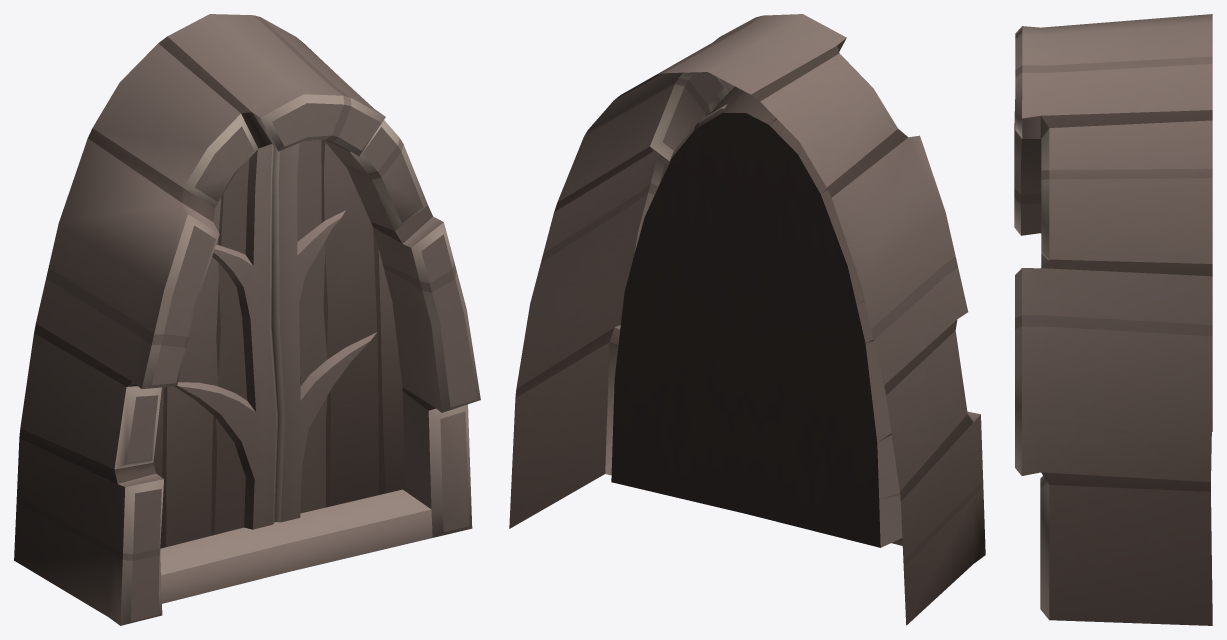
Rendered from elf_door.fbx.
3 views of the same model, side by side, from view 1: azimuth 30°, elevation 25°; view 2: azimuth 150°, elevation 25°; view 3: azimuth 270°, elevation 25° (orthographic).
Parts seen in each view (by area): view 1: elf_door; view 2: elf_door; view 3: elf_door.
Boxes of the visible parts, x1,y1,x2,y2 form: elf_door: (14, 14, 480, 625); elf_door: (509, 14, 985, 625); elf_door: (1014, 14, 1212, 625).
Bounding box in the file's own units: 200 × 244 × 86.75.
